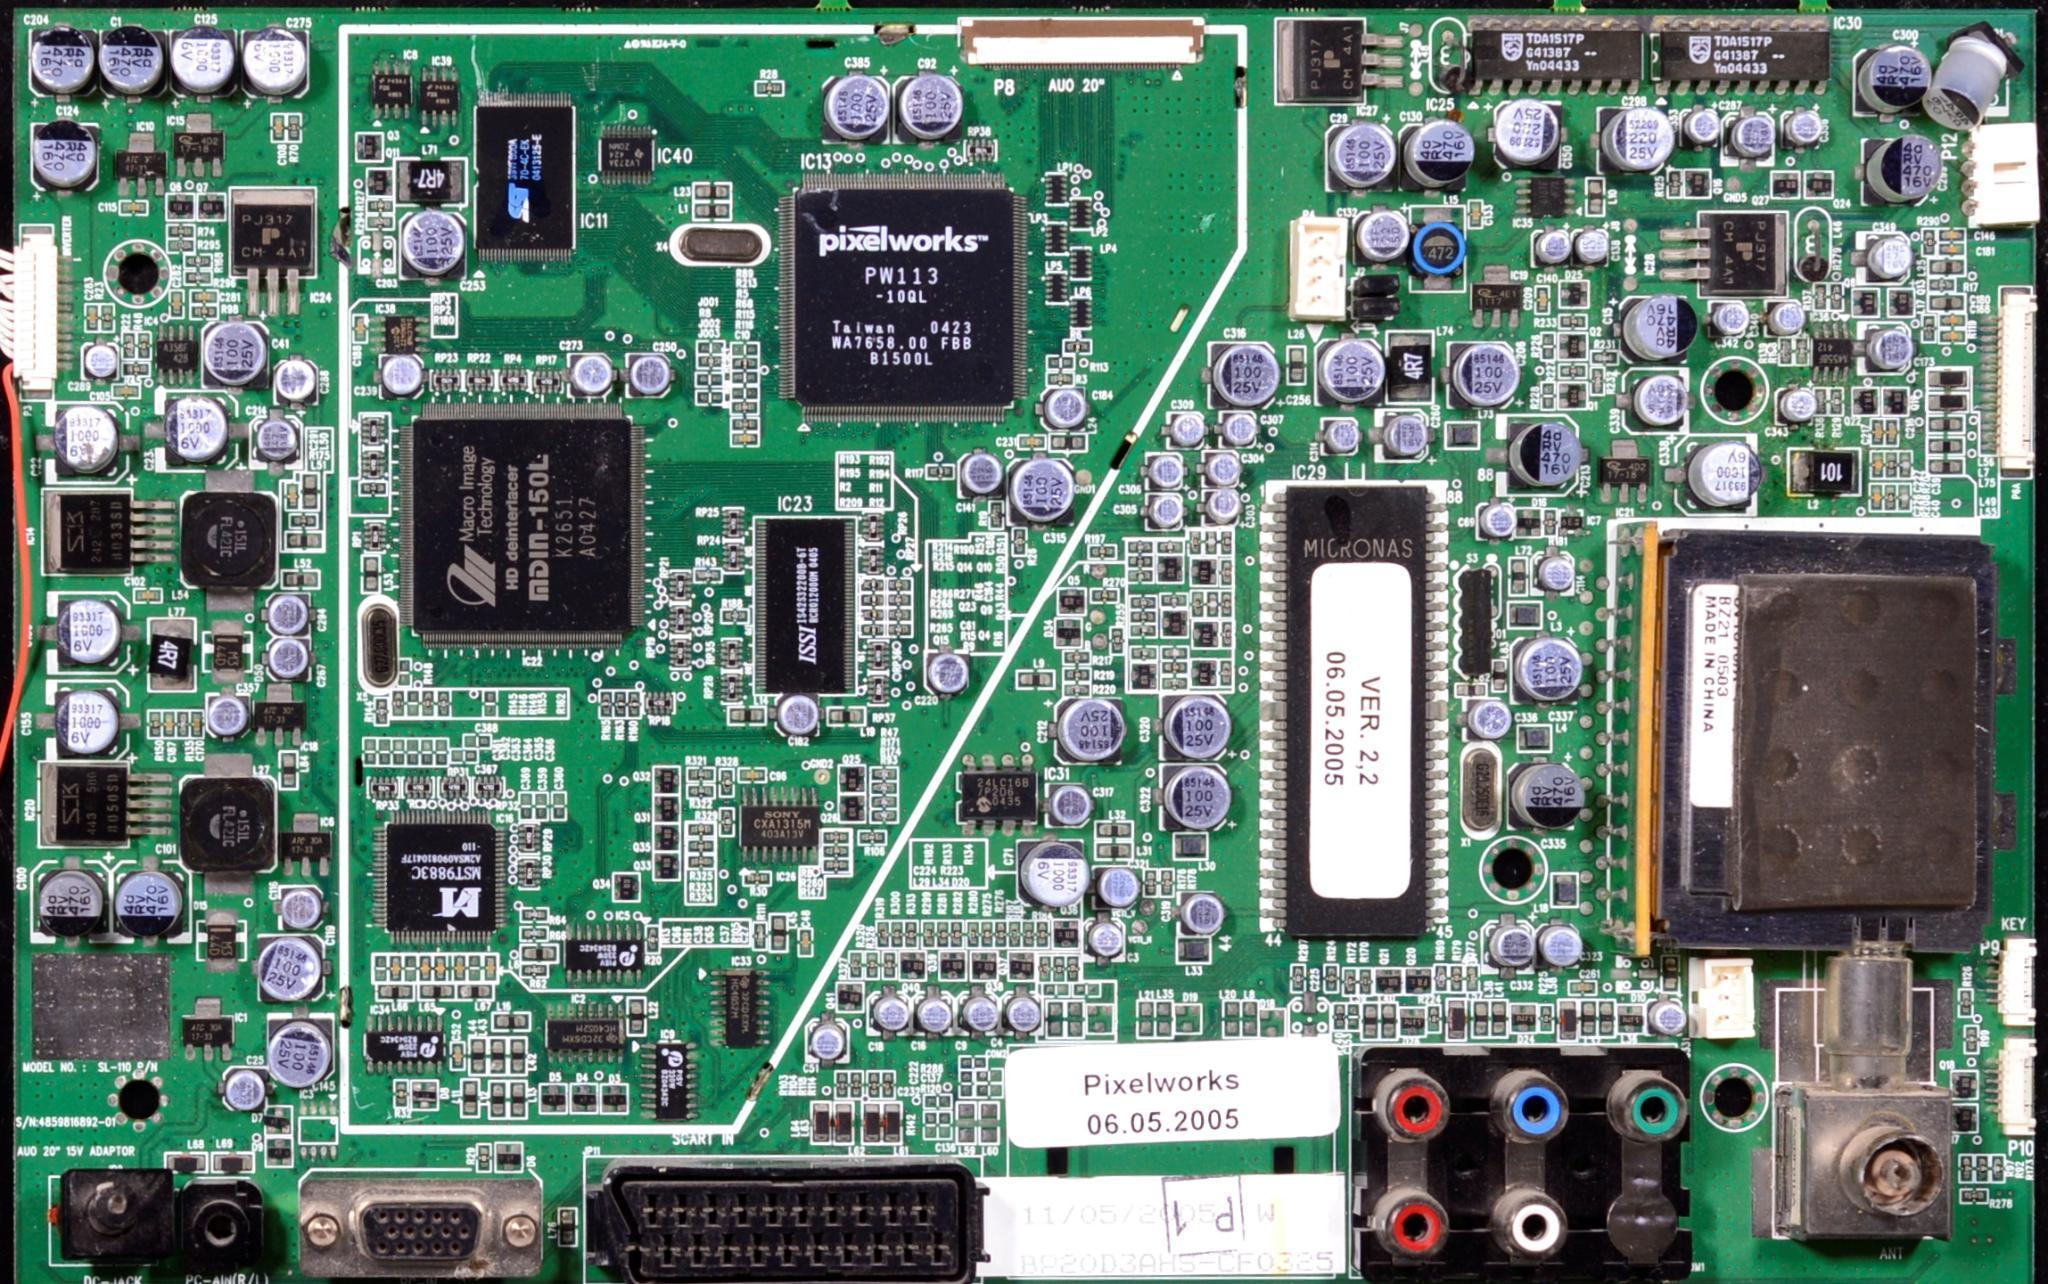Capacitor Jumper: (50, 692, 117, 749), (1516, 422, 1570, 490), (277, 1027, 333, 1084), (170, 399, 222, 460), (408, 222, 464, 277), (1029, 848, 1091, 896), (106, 28, 157, 87), (262, 942, 316, 996), (828, 81, 884, 133), (38, 121, 89, 179), (44, 873, 96, 927), (1635, 302, 1690, 354), (1616, 112, 1666, 169), (1882, 143, 1931, 201), (65, 604, 112, 663), (1218, 349, 1273, 399), (1337, 127, 1387, 178), (214, 328, 262, 382), (37, 36, 84, 89), (61, 420, 109, 470), (1703, 447, 1751, 499), (1180, 703, 1227, 751), (177, 34, 223, 84), (1014, 467, 1068, 510), (1065, 709, 1111, 757), (1331, 346, 1375, 396), (1520, 646, 1567, 692), (1525, 769, 1570, 817), (251, 36, 305, 75), (1871, 55, 1916, 101), (1505, 109, 1550, 157), (1635, 376, 1680, 422), (1176, 772, 1218, 818), (1418, 129, 1458, 178), (1459, 351, 1499, 399), (906, 84, 949, 129), (254, 420, 299, 460), (129, 880, 174, 919), (1871, 331, 1910, 365), (929, 654, 964, 689), (1735, 120, 1771, 154), (1368, 217, 1405, 251), (282, 362, 316, 399), (1874, 234, 1905, 274), (231, 1075, 263, 1112), (211, 700, 244, 734), (810, 1024, 841, 1059), (577, 358, 608, 393), (1391, 416, 1420, 453), (1495, 930, 1527, 962), (274, 645, 308, 675), (639, 359, 668, 392), (969, 459, 1003, 487), (272, 604, 305, 632), (1189, 898, 1215, 932), (1479, 709, 1505, 743), (1150, 501, 1179, 533), (291, 892, 315, 927), (1050, 398, 1079, 426), (1542, 930, 1573, 957), (878, 997, 905, 1028), (1777, 392, 1808, 419), (921, 1000, 948, 1030), (1010, 1001, 1037, 1031), (1059, 790, 1085, 820), (969, 1001, 997, 1028), (390, 361, 417, 389), (1539, 558, 1566, 584), (1224, 413, 1250, 441), (90, 348, 114, 377), (1776, 308, 1800, 336), (1173, 419, 1196, 447), (1653, 1004, 1678, 1030), (1329, 425, 1354, 450), (1689, 117, 1715, 139), (1792, 117, 1819, 139), (1214, 454, 1233, 482), (1717, 308, 1742, 328), (1491, 507, 1511, 533), (1150, 462, 1173, 484), (1210, 494, 1230, 516), (1584, 234, 1603, 254), (1550, 234, 1564, 260), (271, 117, 282, 143), (123, 200, 146, 213), (86, 305, 98, 328), (356, 318, 367, 345), (172, 288, 180, 317), (135, 592, 161, 601), (115, 385, 138, 395), (166, 712, 174, 735), (1567, 987, 1596, 994), (194, 293, 220, 300), (555, 794, 563, 817), (801, 930, 810, 951), (288, 487, 299, 504), (436, 956, 444, 979), (963, 1071, 985, 1078), (1539, 288, 1547, 311), (436, 743, 444, 765), (467, 737, 485, 746), (451, 1047, 458, 1068), (744, 772, 764, 780), (1888, 422, 1896, 441), (454, 751, 473, 759), (488, 959, 495, 976), (454, 957, 460, 979), (1474, 204, 1480, 226), (367, 743, 373, 763), (424, 743, 430, 763), (537, 797, 544, 814), (393, 960, 399, 979), (1023, 439, 1042, 445), (395, 741, 401, 760), (194, 716, 200, 734), (1940, 232, 1956, 238), (738, 422, 754, 428), (736, 436, 753, 442), (410, 744, 416, 760), (1944, 320, 1965, 324), (1874, 485, 1878, 506), (384, 740, 389, 760), (423, 957, 427, 975), (1943, 247, 1961, 251), (1944, 334, 1958, 340), (1876, 456, 1879, 476), (1878, 425, 1881, 444), (525, 796, 528, 814)
IC: (798, 189, 1016, 416), (418, 419, 625, 641), (760, 521, 852, 689), (479, 109, 572, 247), (387, 821, 491, 927), (1473, 31, 1632, 77), (41, 760, 130, 842), (234, 192, 312, 284), (1278, 24, 1360, 99), (1669, 38, 1819, 80), (1701, 212, 1774, 294), (52, 500, 126, 567), (960, 775, 1032, 822), (739, 808, 821, 848), (602, 129, 652, 180), (726, 970, 759, 1044), (123, 133, 169, 182), (365, 1033, 444, 1059), (661, 1043, 688, 1115), (547, 1022, 625, 1046), (571, 942, 639, 967), (179, 126, 217, 164), (376, 70, 413, 108), (161, 337, 197, 374), (1600, 460, 1646, 482), (186, 1021, 235, 1041), (427, 72, 455, 108), (262, 701, 300, 725), (288, 833, 328, 855), (386, 318, 413, 351), (1480, 285, 1517, 308), (1536, 182, 1560, 214), (1822, 340, 1848, 362), (1564, 513, 1581, 530)
Resistor Jumper: (290, 117, 302, 142), (1090, 544, 1118, 555), (1816, 393, 1828, 416), (695, 570, 717, 581), (1091, 589, 1113, 601), (291, 515, 316, 525), (869, 768, 895, 778), (1068, 342, 1088, 354), (991, 504, 1001, 528), (951, 919, 960, 944), (602, 692, 611, 717), (648, 927, 657, 951), (960, 1058, 983, 1067), (1933, 280, 1956, 288), (1591, 354, 1615, 362), (123, 365, 146, 374), (889, 578, 906, 590), (722, 609, 745, 618), (614, 691, 623, 714), (691, 822, 714, 831), (1542, 336, 1553, 355), (1562, 365, 1581, 376), (1065, 652, 1084, 663), (172, 243, 194, 251), (194, 311, 216, 320), (104, 306, 112, 328), (1068, 686, 1090, 695), (628, 692, 637, 714), (152, 717, 161, 740), (688, 788, 710, 797), (523, 910, 549, 917), (852, 1075, 861, 1096), (1962, 1158, 1971, 1179), (735, 391, 756, 399), (1047, 358, 1071, 365), (1294, 967, 1303, 987), (1970, 1028, 1979, 1047), (123, 337, 132, 357), (1590, 371, 1598, 391), (1205, 530, 1214, 549), (692, 769, 711, 778), (825, 830, 844, 839), (760, 84, 776, 95), (745, 871, 762, 882), (1964, 990, 1970, 1018), (881, 920, 889, 942), (852, 953, 859, 975), (963, 1084, 985, 1092), (186, 257, 208, 265), (140, 336, 148, 358), (1048, 376, 1071, 383), (377, 701, 384, 723), (177, 714, 185, 737), (1547, 388, 1556, 405), (932, 467, 949, 476), (1190, 533, 1199, 550), (485, 692, 494, 710), (939, 922, 946, 942), (756, 926, 763, 947), (1326, 967, 1334, 988), (1452, 967, 1459, 988), (701, 359, 722, 367), (1902, 490, 1909, 510), (1115, 629, 1122, 649), (872, 799, 898, 805), (865, 580, 881, 589), (1993, 1158, 2001, 1177), (371, 204, 390, 212), (189, 275, 208, 283), (736, 405, 756, 413), (1548, 513, 1556, 533), (689, 856, 708, 864), (895, 922, 901, 945), (1433, 1007, 1439, 1031), (1562, 320, 1585, 325), (1834, 392, 1840, 416), (1054, 959, 1062, 976), (1362, 970, 1369, 988), (1349, 969, 1354, 991), (733, 348, 756, 354), (1221, 534, 1229, 552), (1133, 543, 1147, 552), (890, 612, 912, 618), (892, 626, 906, 635), (1221, 664, 1229, 682), (1042, 956, 1048, 976), (1224, 595, 1230, 615), (875, 785, 896, 791), (864, 831, 884, 837), (1965, 1192, 1981, 1200), (1887, 459, 1894, 475), (1162, 543, 1179, 550), (1134, 648, 1150, 655), (830, 846, 846, 854), (997, 923, 1003, 942), (980, 925, 986, 944), (1927, 231, 1933, 250), (1925, 317, 1931, 336), (736, 376, 756, 382), (1014, 534, 1020, 553), (1195, 592, 1201, 611), (396, 695, 402, 714), (972, 922, 976, 947), (1797, 345, 1804, 359), (1167, 646, 1181, 654), (886, 956, 892, 973), (872, 956, 877, 979), (1471, 969, 1477, 987), (1835, 287, 1840, 311), (1783, 342, 1789, 359), (735, 362, 753, 368), (889, 598, 906, 604), (1208, 595, 1214, 612), (439, 694, 445, 712), (725, 814, 730, 831), (1162, 874, 1168, 892), (1817, 287, 1822, 309), (1133, 568, 1146, 575), (1167, 678, 1180, 685), (426, 692, 430, 714), (726, 771, 730, 793), (1040, 923, 1045, 939), (1979, 1158, 1984, 1175), (174, 229, 191, 235), (1162, 596, 1179, 602), (828, 862, 844, 868), (908, 922, 912, 942), (371, 220, 392, 225), (694, 840, 714, 845), (864, 598, 878, 604), (864, 626, 878, 632), (1028, 922, 1032, 941), (1014, 923, 1019, 942), (1440, 967, 1445, 987), (884, 1075, 889, 1095), (484, 1146, 488, 1166), (1223, 624, 1227, 643), (525, 966, 543, 970), (838, 1075, 843, 1093), (1888, 490, 1893, 507), (1133, 558, 1146, 564), (1136, 598, 1149, 604), (1136, 615, 1149, 621), (1136, 626, 1149, 632), (871, 1075, 875, 1092), (1068, 673, 1084, 678), (875, 814, 892, 818), (1147, 874, 1152, 891), (1071, 962, 1075, 976), (1672, 176, 1677, 191), (1167, 664, 1181, 669), (1905, 456, 1908, 476), (1227, 562, 1230, 583), (867, 611, 880, 615), (926, 922, 929, 941), (523, 933, 543, 936), (402, 1084, 404, 1106)
Transistor: (834, 984, 861, 1010), (1130, 664, 1156, 686), (362, 136, 386, 160), (1953, 1105, 1976, 1130), (1851, 391, 1876, 413), (370, 172, 393, 194), (905, 950, 924, 976), (172, 197, 192, 220), (945, 953, 964, 978), (1562, 334, 1581, 359), (974, 956, 997, 976), (1956, 1075, 1977, 1098), (1161, 559, 1183, 580), (617, 877, 637, 899), (203, 192, 220, 217), (1885, 393, 1908, 413), (1381, 970, 1400, 991), (657, 856, 676, 877), (1014, 956, 1034, 975), (1569, 386, 1588, 405), (1062, 592, 1081, 611), (1164, 611, 1181, 632), (660, 771, 677, 791), (1856, 294, 1874, 314), (844, 769, 862, 788), (1195, 621, 1211, 642), (1193, 664, 1210, 685), (844, 797, 861, 818), (1774, 178, 1792, 195), (657, 830, 674, 848), (1411, 970, 1427, 990), (662, 800, 677, 821), (1808, 179, 1825, 195), (1692, 175, 1706, 192), (1198, 564, 1213, 578)
